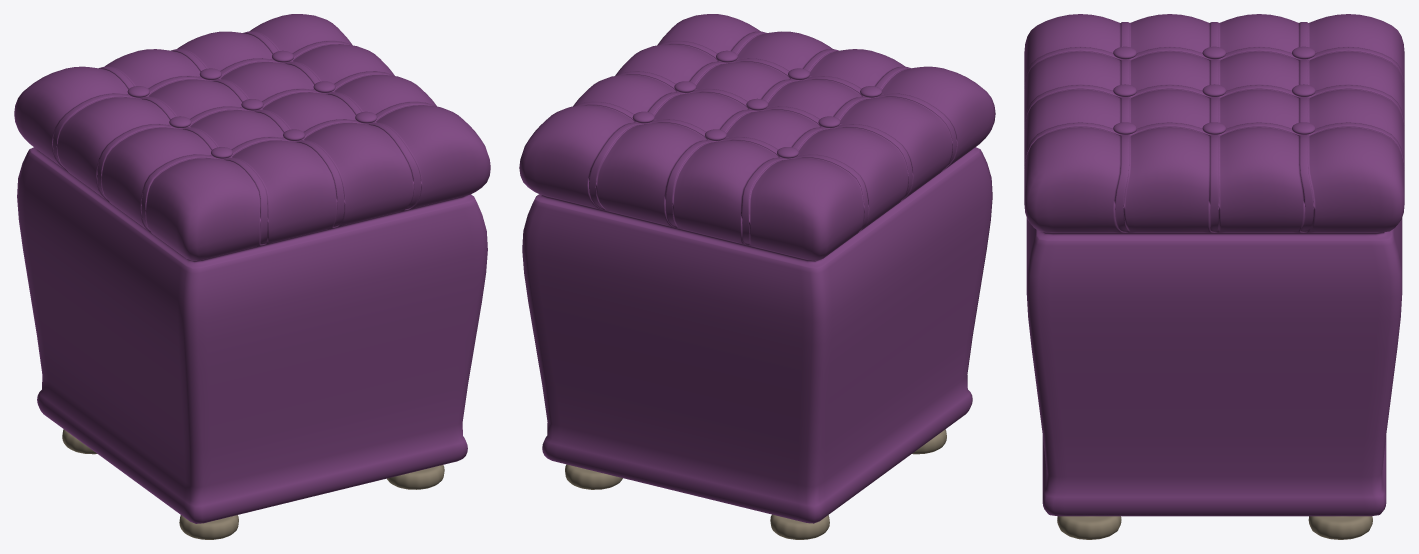
The model's file is pouf7.glb.
3 views of the same model, side by side, from view 1: azimuth 30°, elevation 25°; view 2: azimuth 150°, elevation 25°; view 3: azimuth 270°, elevation 25° (orthographic). The views are drawn at different scales.
Visible parts, largest first — view 1: Velvet storage pouf_fabric pouf_0, Velvet storage pouf_leg pouf_0; view 2: Velvet storage pouf_fabric pouf_0, Velvet storage pouf_leg pouf_0; view 3: Velvet storage pouf_fabric pouf_0, Velvet storage pouf_leg pouf_0.
Part boxes in pixels (x1,y1,x2,y2): Velvet storage pouf_fabric pouf_0: [14, 14, 490, 523]; Velvet storage pouf_leg pouf_0: [62, 429, 444, 539]; Velvet storage pouf_fabric pouf_0: [519, 14, 995, 523]; Velvet storage pouf_leg pouf_0: [565, 429, 946, 539]; Velvet storage pouf_fabric pouf_0: [1024, 14, 1404, 516]; Velvet storage pouf_leg pouf_0: [1057, 516, 1372, 539].
Size of the model in its own units: 0.4599 by 0.5286 by 0.4599.
